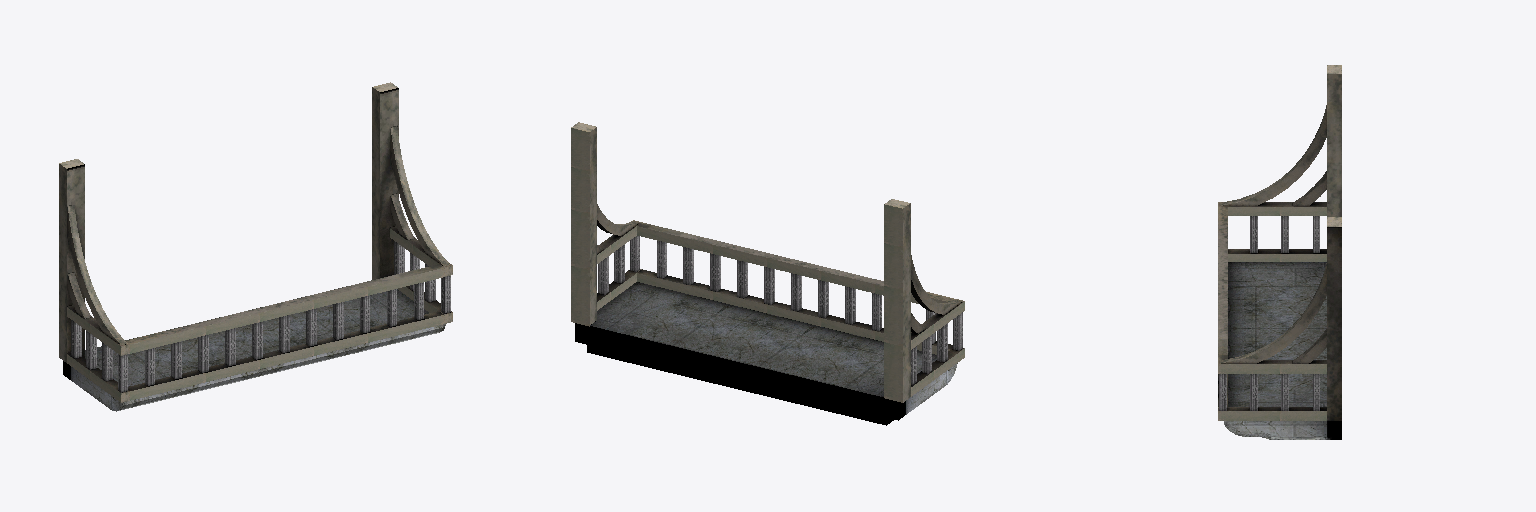
3 renders of one model, left to right at view 1: azimuth 30°, elevation 25°; view 2: azimuth 150°, elevation 25°; view 3: azimuth 270°, elevation 25°, orthographic.
Parts seen in each view (by area): view 1: balcony; view 2: balcony; view 3: balcony.
Part boxes in pixels (x1,y1,x2,y2): balcony: (59,82,452,411); balcony: (571,122,964,425); balcony: (1218,65,1341,439).
Bounding box in the file's own units: 592 × 376 × 192.
1 materials, 1 textured.